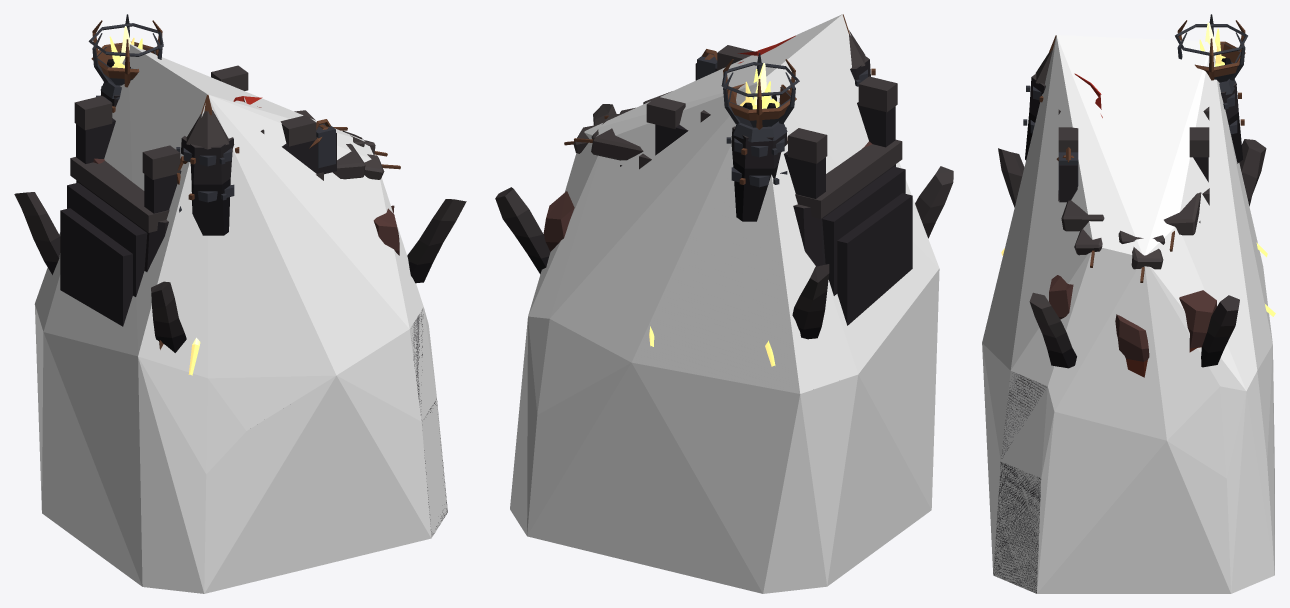
The model's file is volcanic_obsidian_bridge_ruin.glb.
3 renders of one model, left to right at view 1: azimuth 30°, elevation 25°; view 2: azimuth 150°, elevation 25°; view 3: azimuth 270°, elevation 25°, orthographic. The views are drawn at different scales.
Visible parts, largest first — view 1: col_volcbridge_base, VolcanicObsidianBridgeRuin; view 2: col_volcbridge_base, VolcanicObsidianBridgeRuin; view 3: col_volcbridge_base, VolcanicObsidianBridgeRuin.
Boxes of the visible parts, x1,y1,x2,y2 form: col_volcbridge_base: (34,44,447,593); VolcanicObsidianBridgeRuin: (14,14,466,534); col_volcbridge_base: (510,14,939,593); VolcanicObsidianBridgeRuin: (495,14,953,366); col_volcbridge_base: (982,35,1274,593); VolcanicObsidianBridgeRuin: (993,14,1275,592).
Size of the model in its own units: 6.9 by 9.33 by 5.38.
